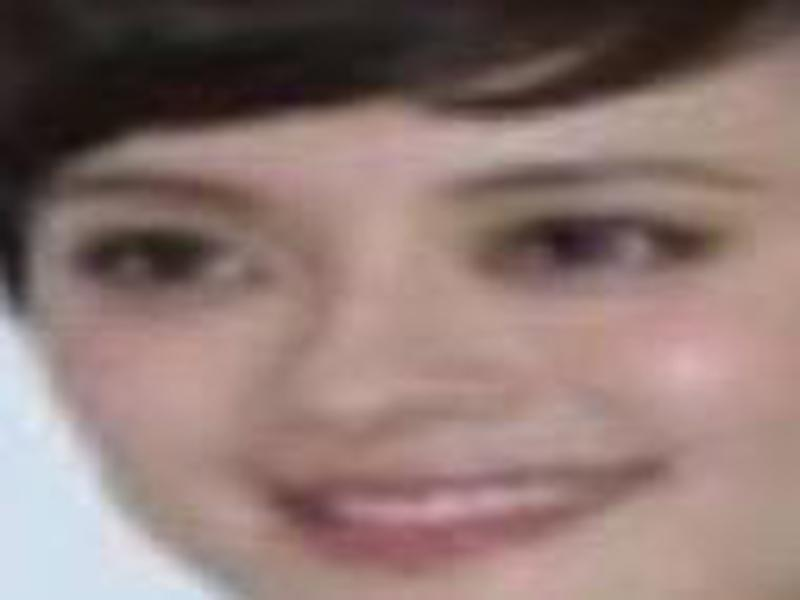without_mask: (25, 61, 776, 600)
